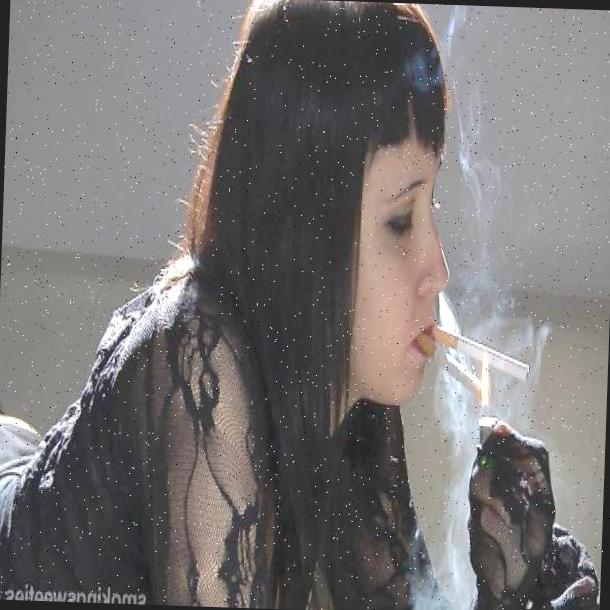smoke: (412, 308, 561, 610)
